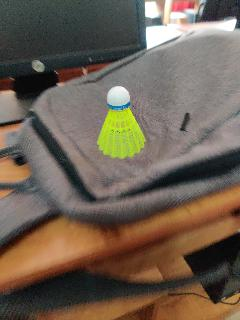shuttlecock: (96, 85, 147, 157)
